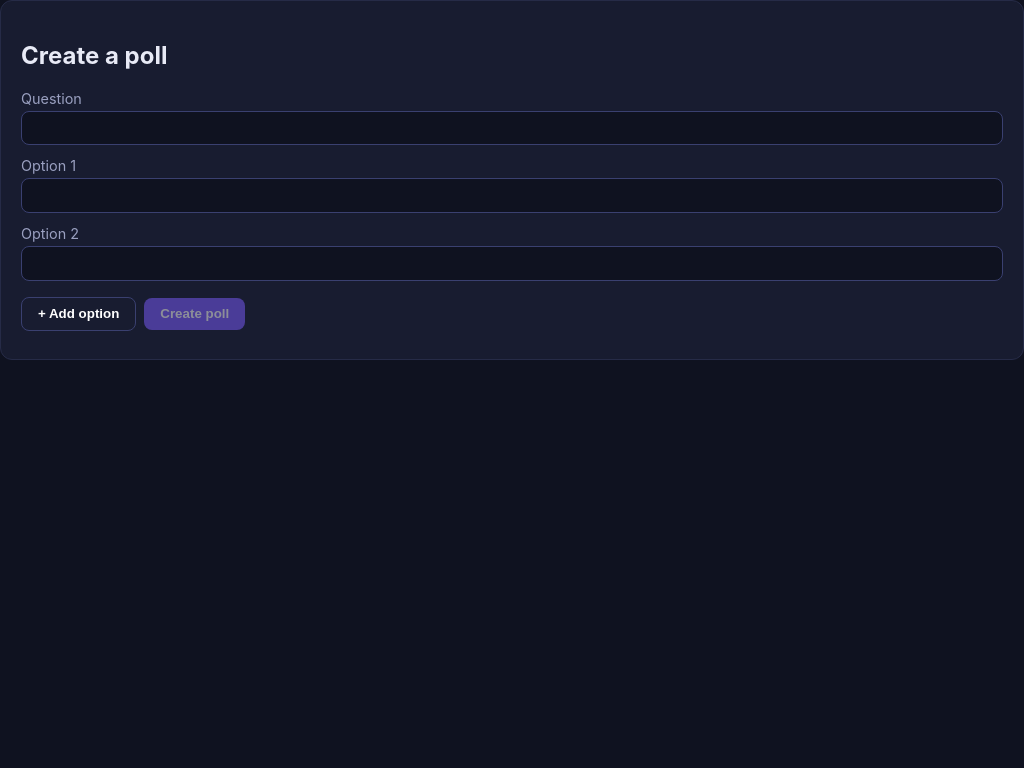
Test: CreatePoll form › allows at most 8 option rows
The image size is (1024, 768).
Click the button "+ Add option". click: (79, 314)
box: [21, 297, 136, 331]
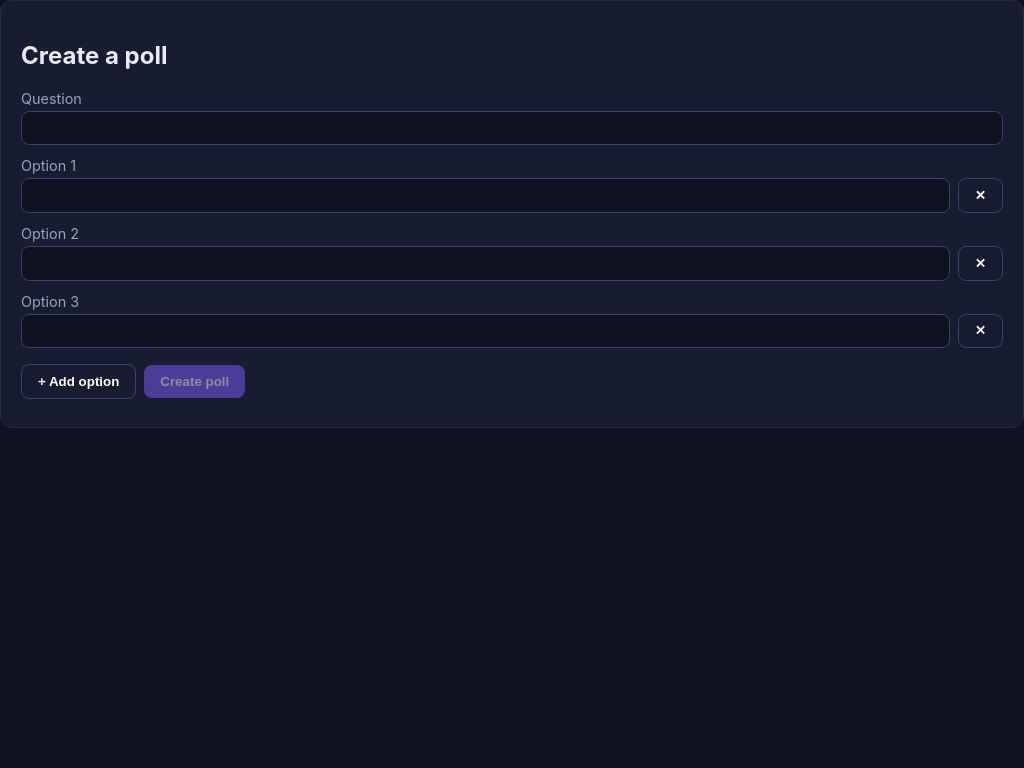
Click the button "+ Add option". click: (79, 382)
box: [21, 364, 136, 399]
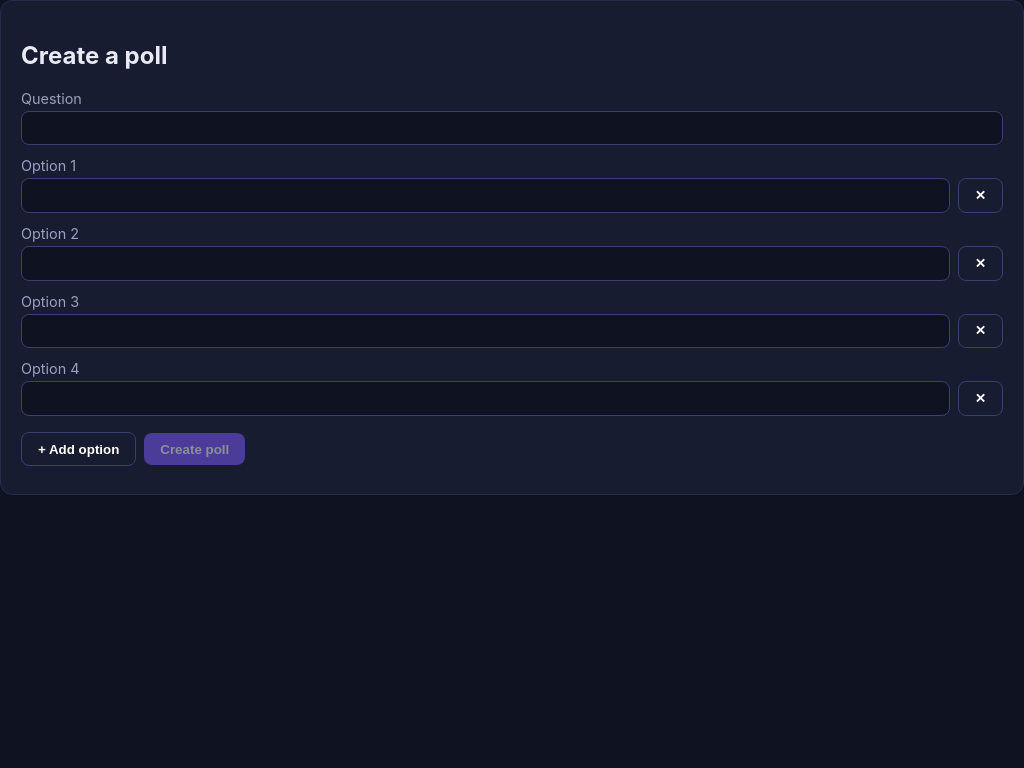
Click the button "+ Add option". click: (79, 449)
box: [21, 432, 136, 466]
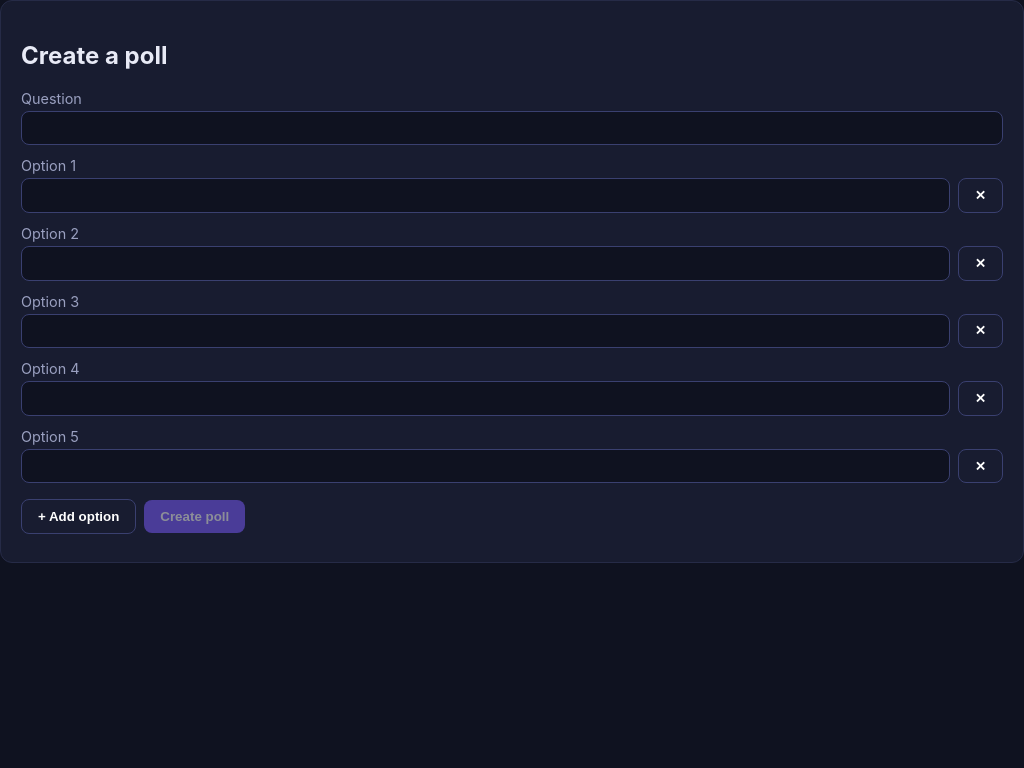
Click the button "+ Add option". click: (79, 517)
box: [21, 499, 136, 534]
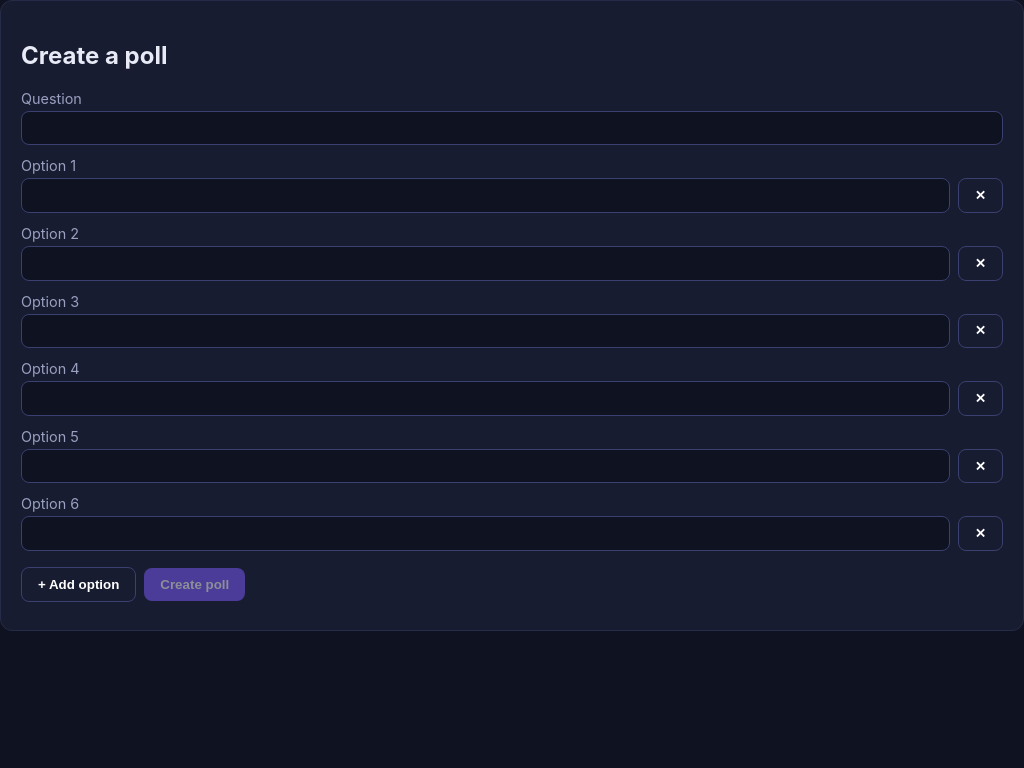
Click the button "+ Add option". click: (79, 584)
box: [21, 567, 136, 602]
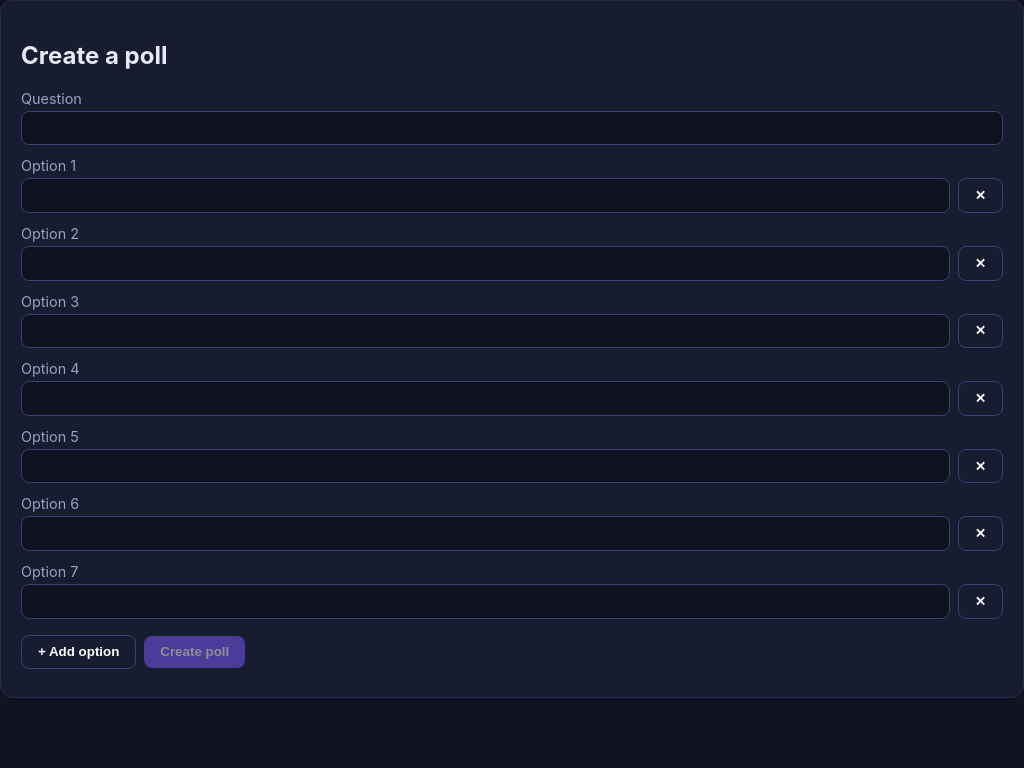
Click the button "+ Add option". click: (79, 652)
box: [21, 635, 136, 669]
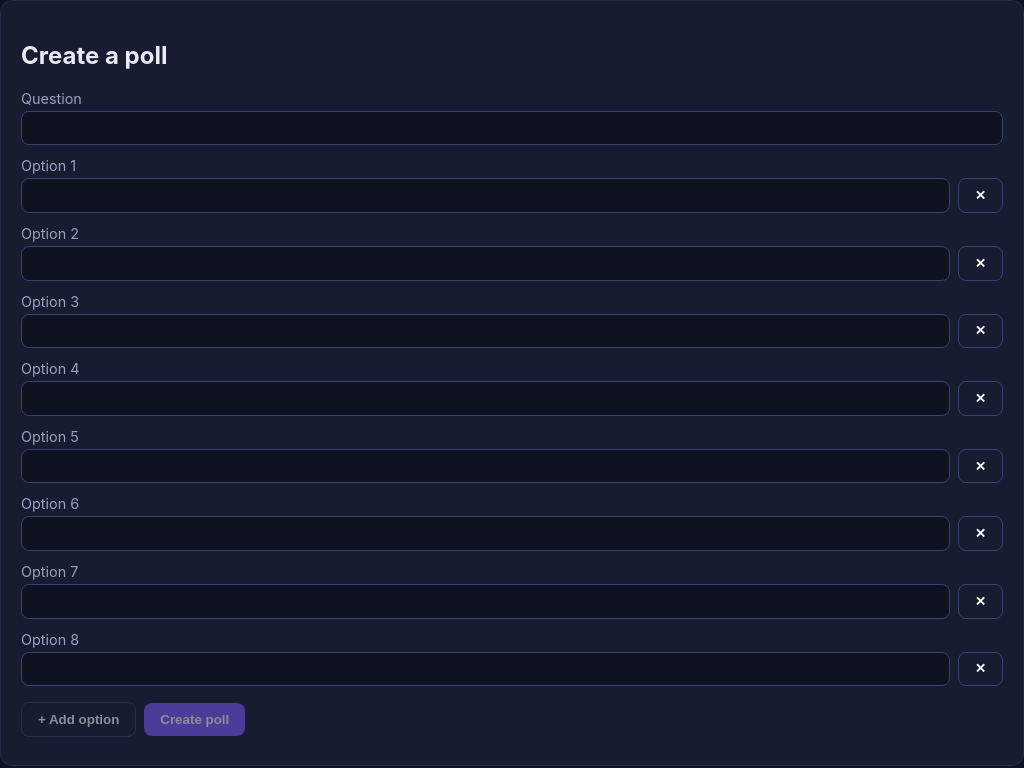
expect the field labelled "Option 8" is shown: met, box [21, 652, 950, 686]
